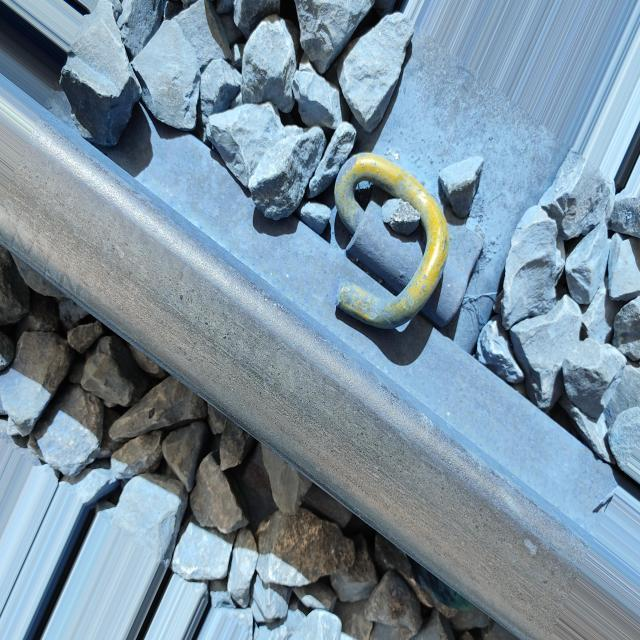Good Fasteners: (334, 148, 485, 331)
